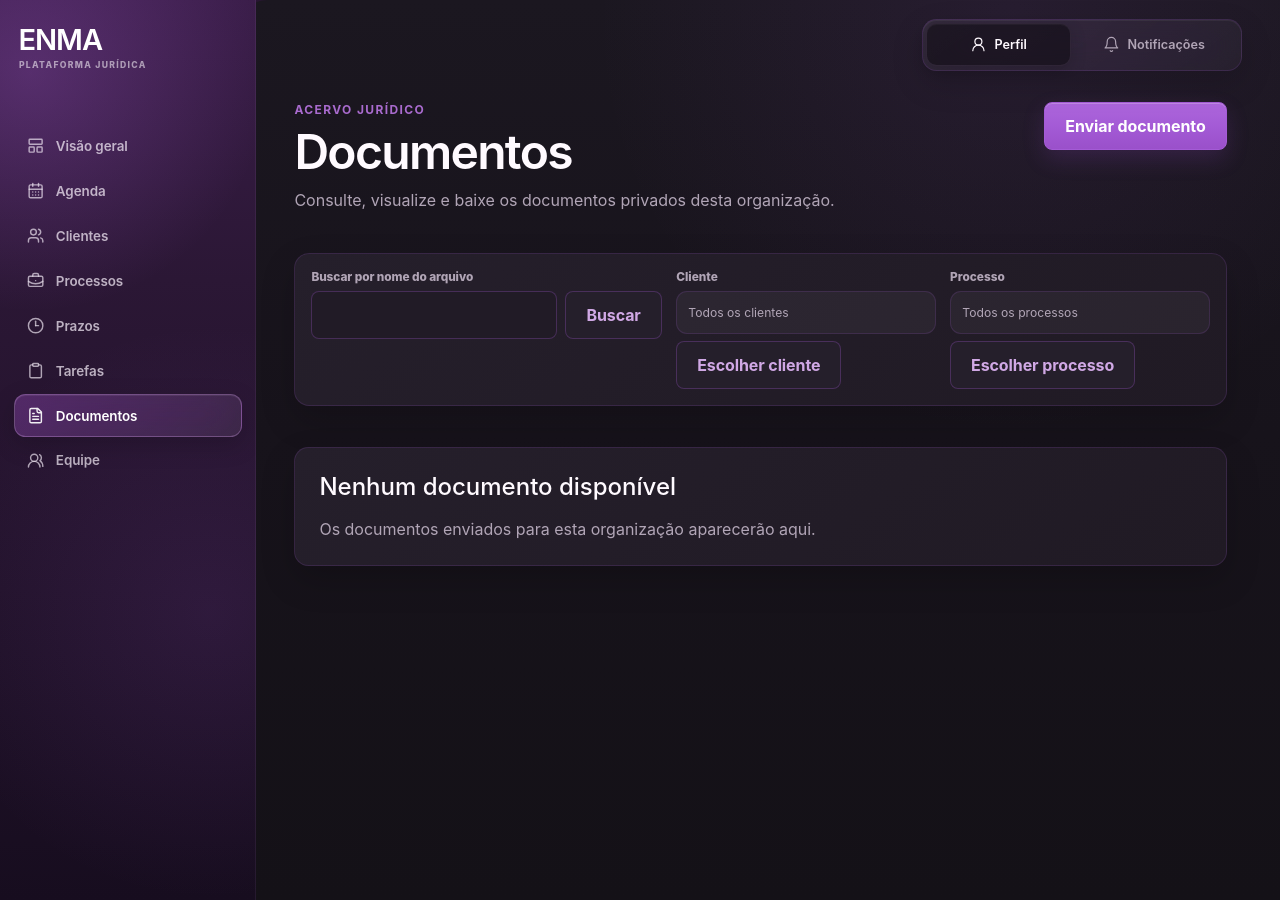
Test: Documents D1 flow › ClientFilter_UsesTenantLookupAndSendsOnlyClientId
Expected: the heading "Nenhum documento disponível" is shown, [319,472,676,501]
Click the button "Escolher cliente" at {"x": 759, "y": 365}, box [676,341,841,389]
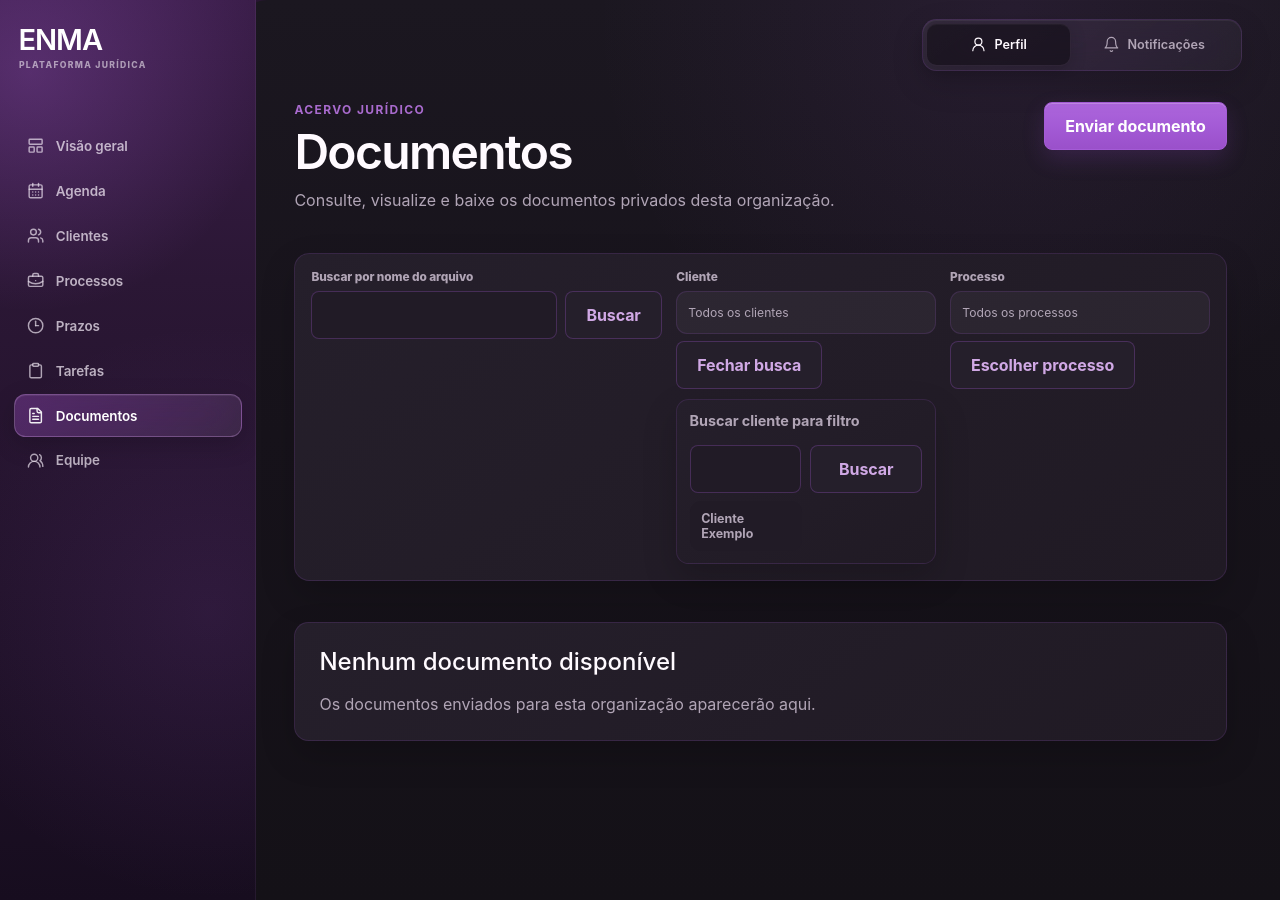
Click the button "Cliente Exemplo" at {"x": 746, "y": 526}, box [690,501,802,551]
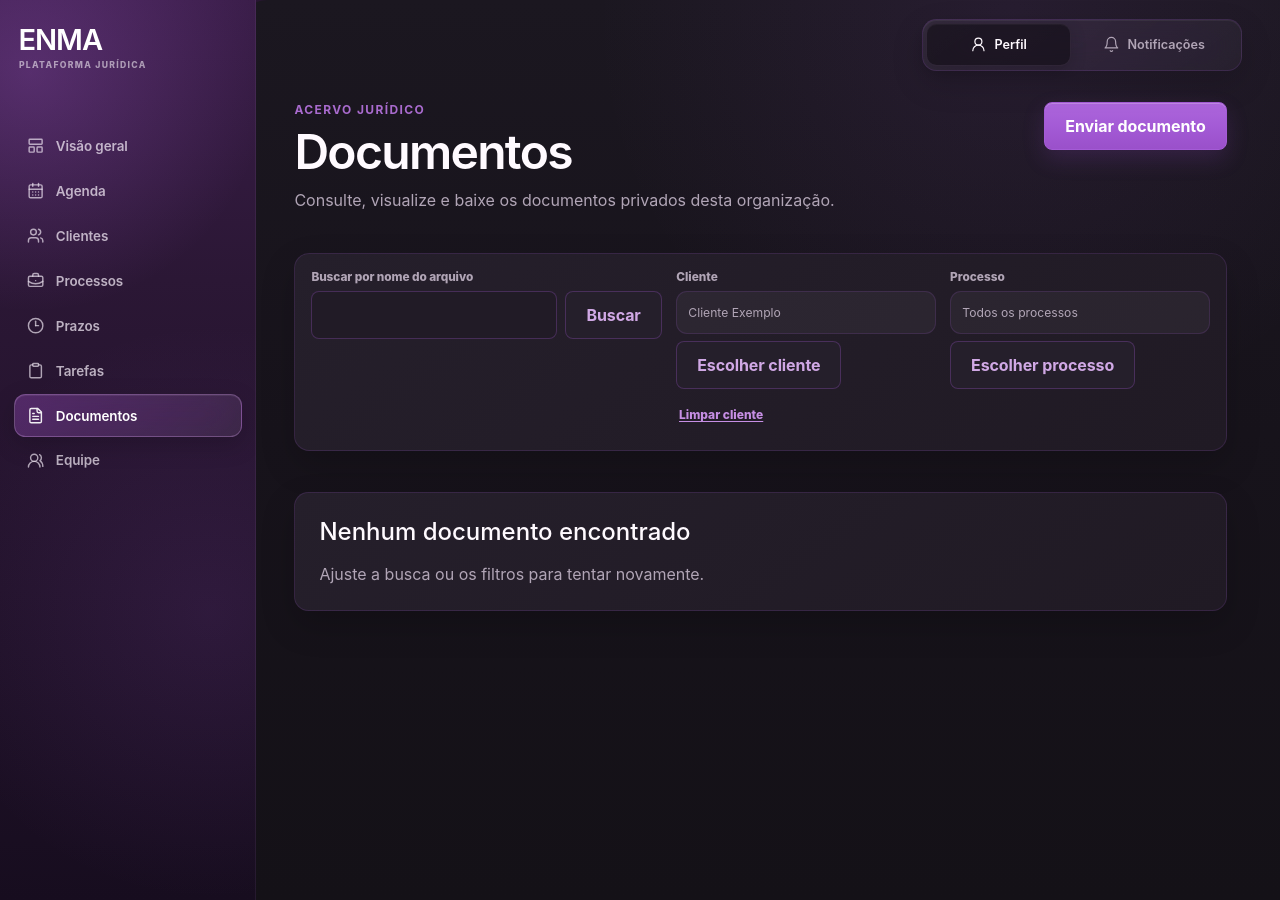
Expected: the text "Cliente Exemplo" is shown, [676,291,936,334]
